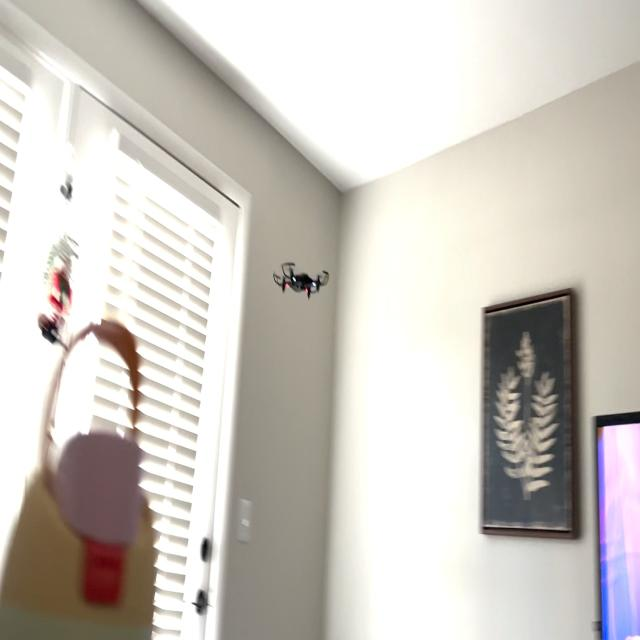drone: (268, 249, 334, 310)
